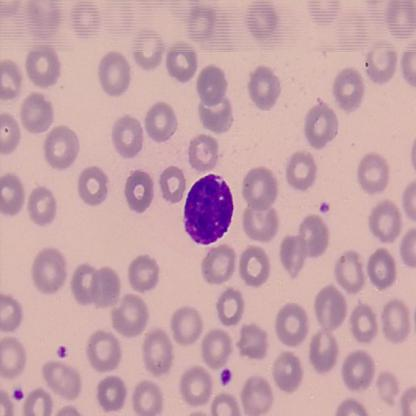Basophil: (181, 170, 235, 248)
